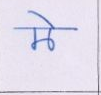e_matra: (27, 10, 57, 27)
